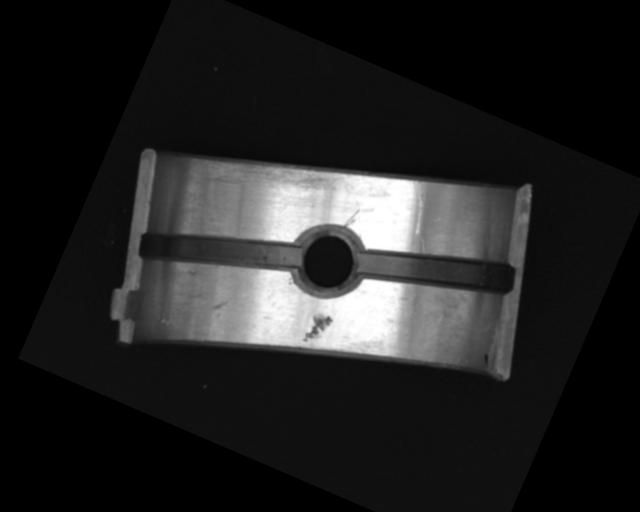blot: (479, 352, 493, 368)
bruise: (300, 308, 335, 349), (208, 296, 229, 320), (157, 314, 171, 327)
gap: (134, 185, 306, 314), (352, 209, 519, 333)
hole: (284, 216, 373, 306)
nick: (394, 178, 439, 237), (343, 206, 360, 230)
scratch: (184, 105, 348, 232)
